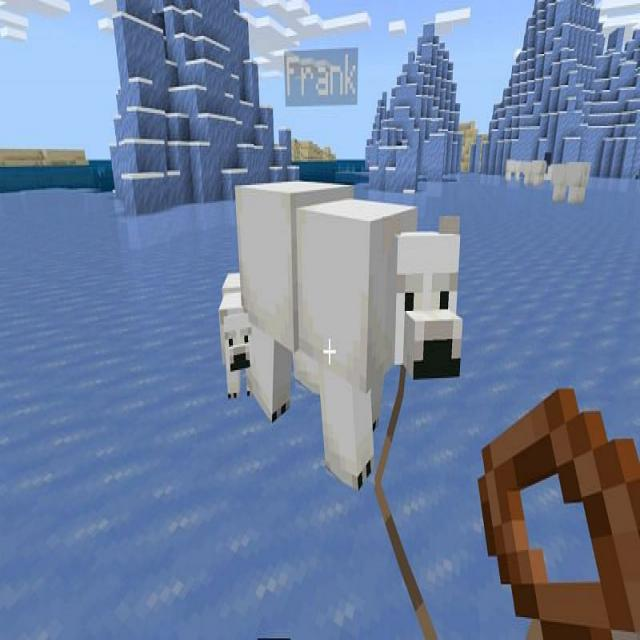Polar Bear: (232, 176, 464, 495), (218, 266, 254, 400)
